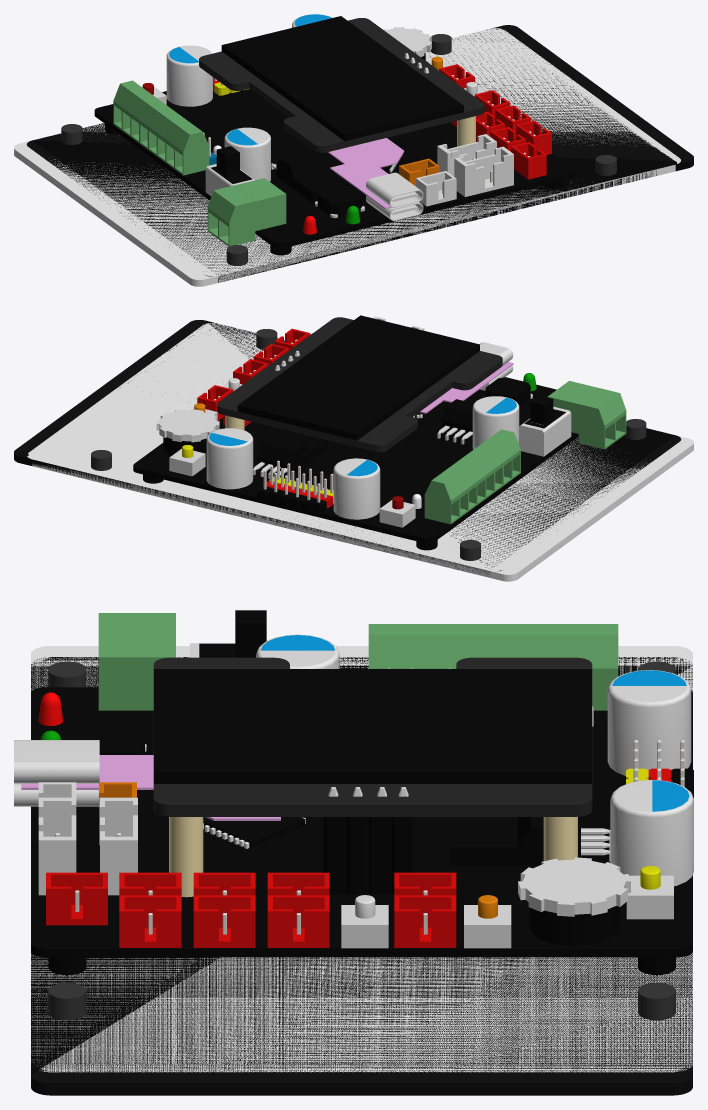
Rendered from POP-32.fbx.
The picture shows the model from 3 angles, top to bottom: view 1: azimuth 30°, elevation 25°; view 2: azimuth 150°, elevation 25°; view 3: azimuth 270°, elevation 25°; orthographic projection. The views are drawn at different scales.
Visible parts, largest first — view 1: ROOOO24:POP32i:POP32 Board; view 2: ROOOO24:POP32i:POP32 Board; view 3: ROOOO24:POP32i:POP32 Board.
Part boxes in pixels (bbox=[...]): ROOOO24:POP32i:POP32 Board: bbox=[14, 14, 693, 286]; ROOOO24:POP32i:POP32 Board: bbox=[14, 315, 693, 581]; ROOOO24:POP32i:POP32 Board: bbox=[14, 610, 693, 1095].
Size of the model in its own units: 13.42 by 2.13 by 8.81.
